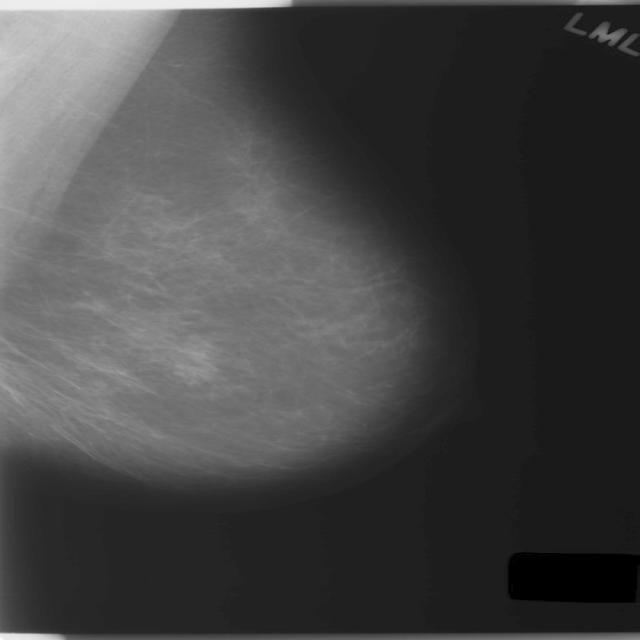tumour: (170, 333, 218, 384)
